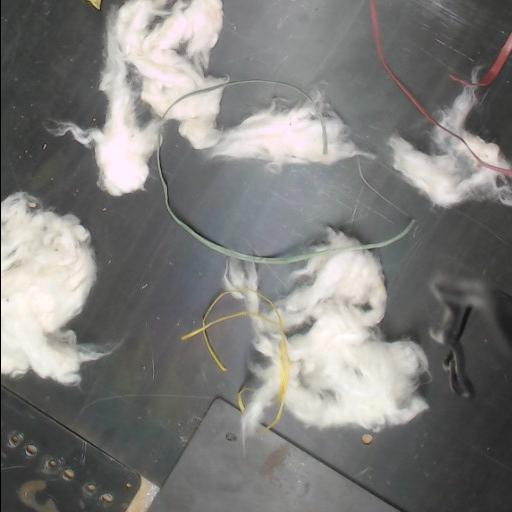conveyor belt: (1, 0, 512, 511), (210, 0, 432, 152), (376, 0, 512, 114), (467, 58, 512, 157), (221, 85, 280, 125)
cotton: (52, 0, 371, 195), (241, 251, 428, 433), (1, 192, 102, 384), (389, 88, 512, 206), (237, 386, 248, 414)
thread: (156, 134, 414, 270), (369, 0, 464, 143), (226, 289, 288, 428), (181, 290, 264, 369), (162, 80, 312, 117), (453, 30, 512, 90), (464, 143, 512, 174)
